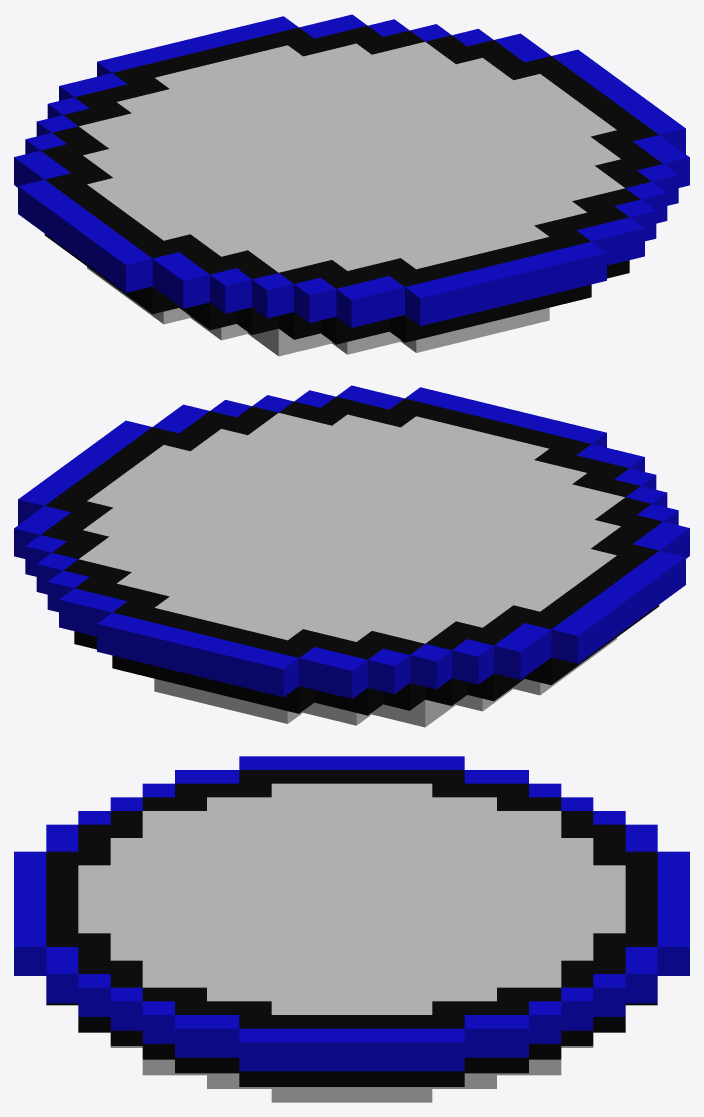
Rendered from battle_zone_blue.obj.
3 views of the same model, one above another, from view 1: azimuth 30°, elevation 25°; view 2: azimuth 150°, elevation 25°; view 3: azimuth 270°, elevation 25° (orthographic). The views are drawn at different scales.
Visible parts, largest first — view 1: battle_zone_blue; view 2: battle_zone_blue; view 3: battle_zone_blue.
Part boxes in pixels (x1=…): battle_zone_blue: x1=14, y1=14, x2=689, y2=356; battle_zone_blue: x1=14, y1=385, x2=689, y2=727; battle_zone_blue: x1=14, y1=756, x2=689, y2=1102.
Bounding box in the file's own units: 21 × 3 × 21.
Materials: 1 (1 with a texture image).
